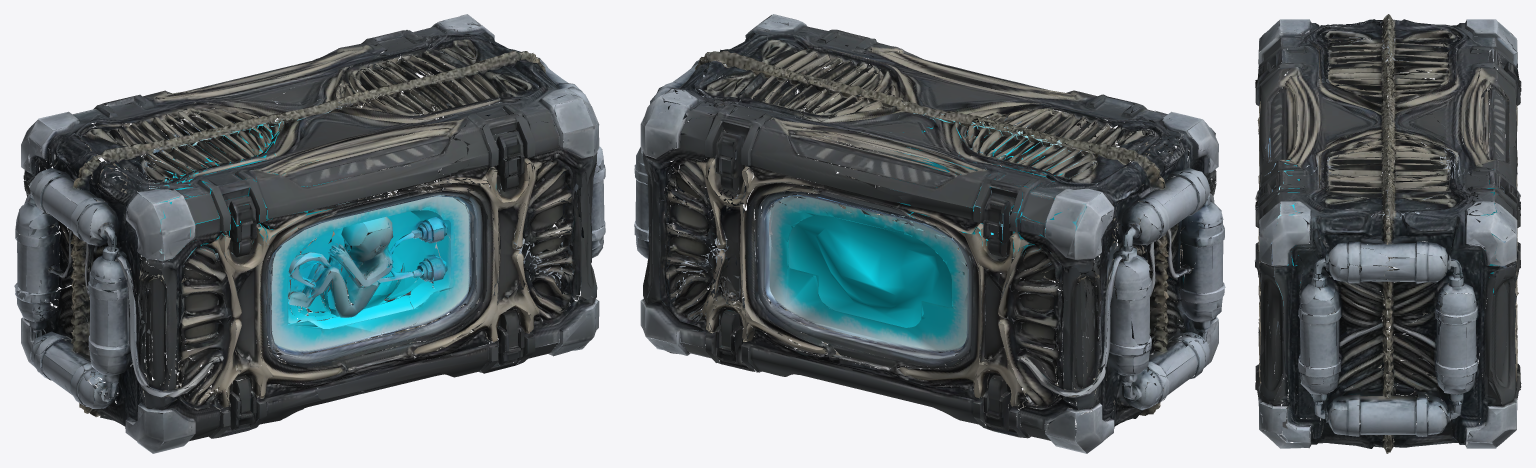
File: corp_cryo_transport_coffin.glb
The picture shows the model from 3 angles, left to right: view 1: azimuth 30°, elevation 25°; view 2: azimuth 150°, elevation 25°; view 3: azimuth 270°, elevation 25°; orthographic projection. The views are drawn at different scales.
Parts seen in each view (by area): view 1: node_0; view 2: node_0; view 3: node_0.
Part boxes in pixels (x1,y1,x2,y2): node_0: (14, 14, 605, 453); node_0: (634, 14, 1225, 453); node_0: (1255, 14, 1521, 453).
Bounding box in the file's own units: 1.13 × 0.5631 × 0.549.
1 material, 1 textured.
